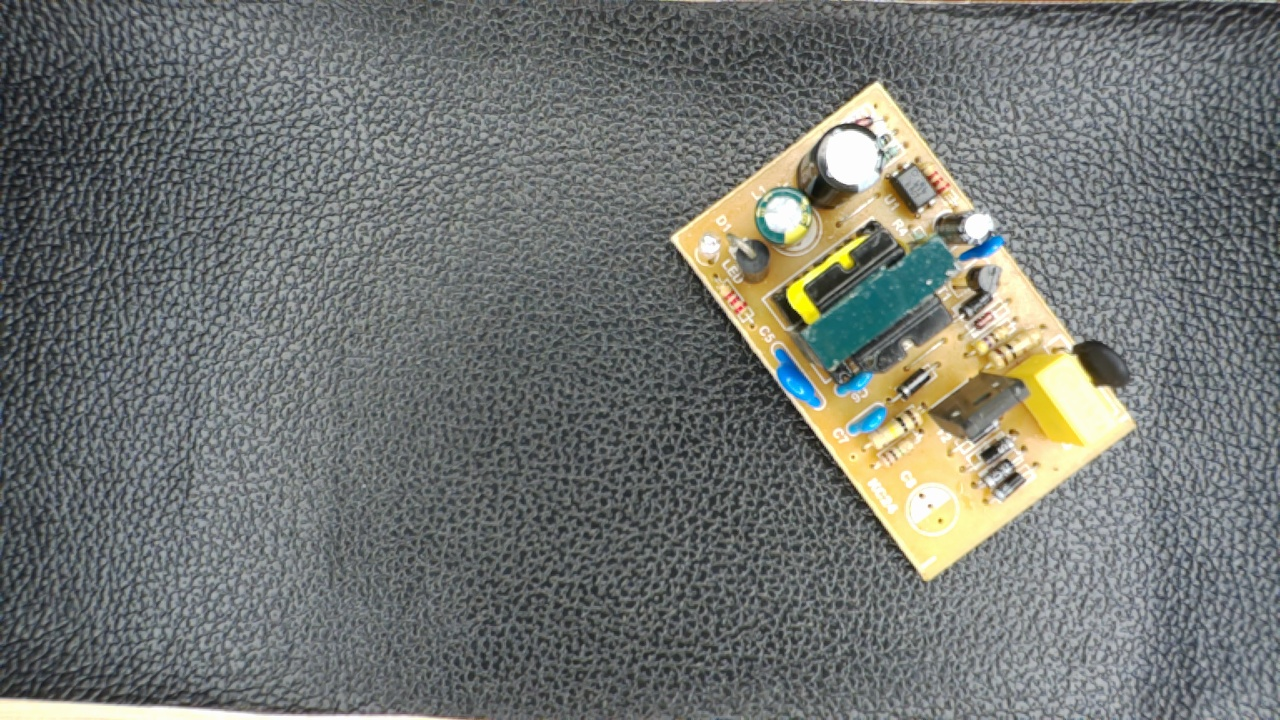fuse: (1053, 336, 1139, 392)
mov: (764, 341, 825, 410)
optocoupler: (885, 156, 941, 218)
